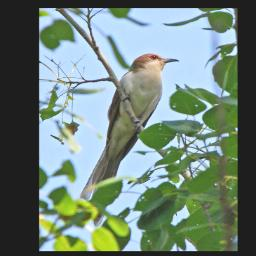Cuckoo: (76, 52, 180, 228)
